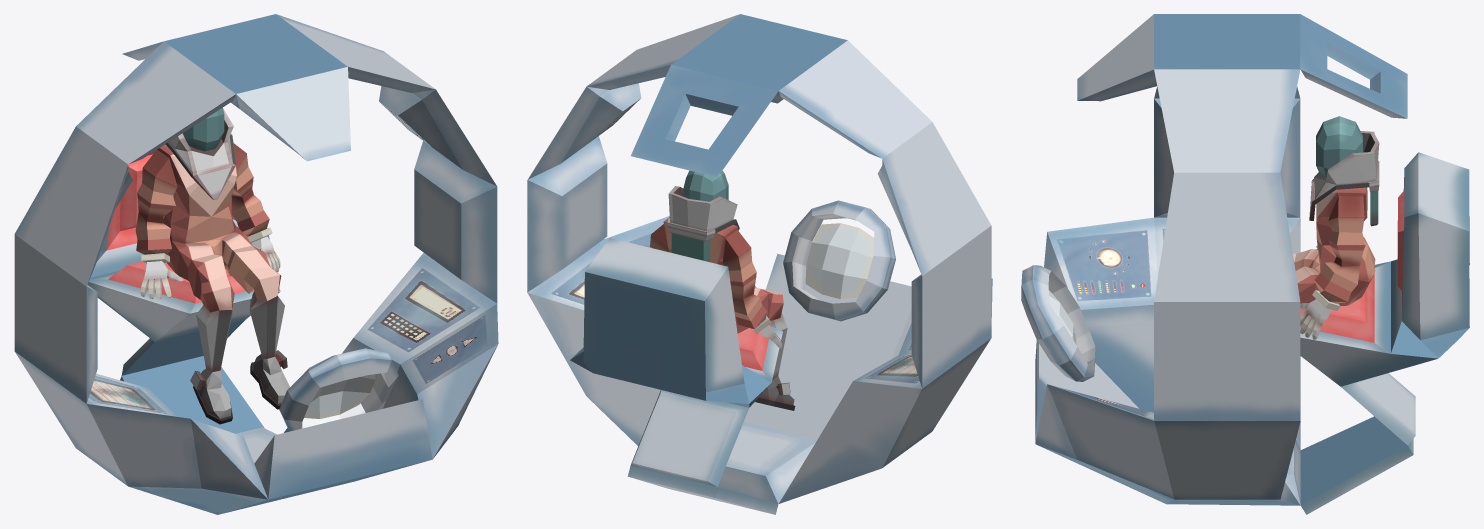
The model's file is cockpit.fbx.
3 views of the same model, side by side, from view 1: azimuth 30°, elevation 25°; view 2: azimuth 150°, elevation 25°; view 3: azimuth 270°, elevation 25° (orthographic). The views are drawn at different scales.
Parts seen in each view (by area): view 1: teto, base, Corpo, cadeira, Volant, Cpact, Vidro; view 2: teto, base, cadeira, Volant, Corpo, Cpact, Vidro; view 3: teto, base, cadeira, Corpo, Volant, Cpact, Vidro.
Part boxes in pixels (left/top/right/bottom): teto: left=14, top=14, right=497, bottom=403; base: left=14, top=253, right=498, bottom=514; Corpo: left=135, top=140, right=289, bottom=424; cadeira: left=87, top=150, right=280, bottom=433; Volant: left=279, top=348, right=398, bottom=431; Cpact: left=165, top=108, right=235, bottom=199; Vidro: left=182, top=107, right=224, bottom=151; teto: left=527, top=14, right=991, bottom=388; base: left=527, top=216, right=992, bottom=503; cadeira: left=570, top=238, right=782, bottom=514; Volant: left=783, top=200, right=895, bottom=321; Corpo: left=649, top=218, right=795, bottom=410; Cpact: left=667, top=186, right=739, bottom=262; Vidro: left=683, top=170, right=728, bottom=201; teto: left=1077, top=14, right=1407, bottom=420; base: left=1035, top=217, right=1300, bottom=505; cadeira: left=1300, top=152, right=1469, bottom=514; Corpo: left=1293, top=187, right=1375, bottom=339; Volant: left=1021, top=265, right=1095, bottom=381; Cpact: left=1309, top=131, right=1379, bottom=226; Vidro: left=1316, top=116, right=1362, bottom=177.
Bounding box in the file's own units: 937 × 956 × 873.
